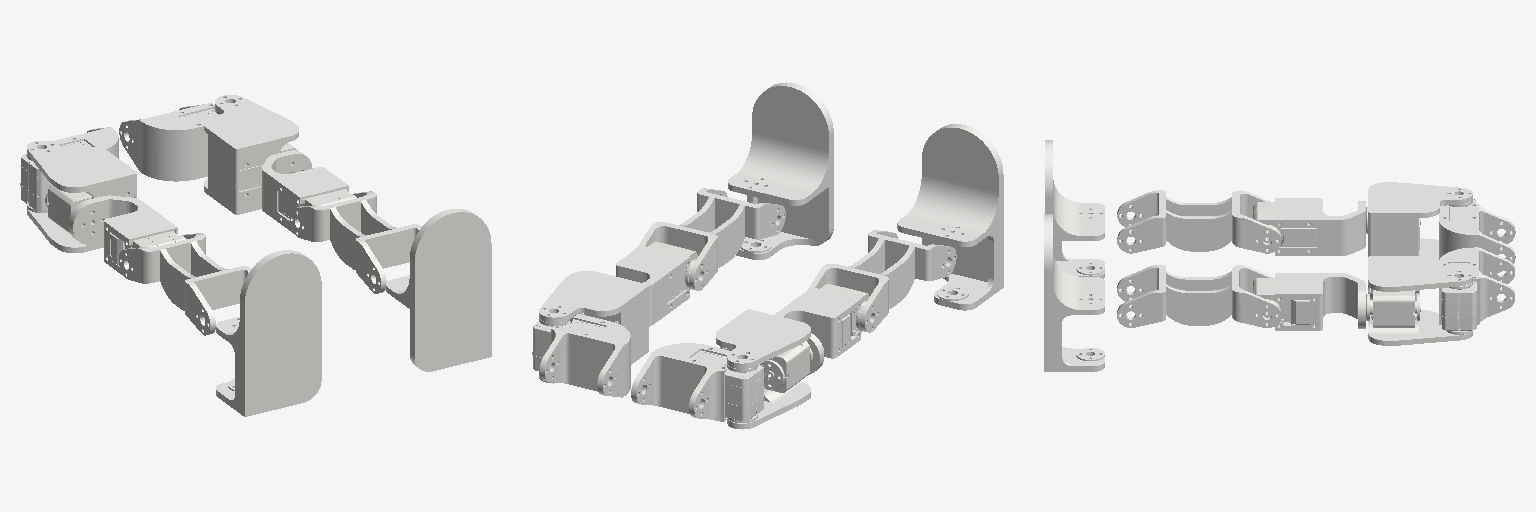
The robot description file, URDF, robot "Robot_v4":
<?xml version="1.0"?>
<robot name="Robot_v4">

  <!-- Materials -->
  <material name="Steel">
    <color rgba="0.965 0.965 0.953 1.0"/>
  </material>

  <link name="base_link">
    <inertial>
      <origin xyz="0.027914 0.011270 0.003243" rpy="0 0 0"/>
      <mass value="1.196448"/>
      <inertia ixx="1.165341e-03" ixy="6.647976e-06" ixz="6.512934e-07"
               iyy="1.459969e-03" iyz="-1.655119e-04" izz="2.416161e-03"/>
    </inertial>
    <visual>
      <origin xyz="0.000000 0.000000 0.000000" rpy="0 0 0"/>
      <geometry>
        <mesh filename="package://K2/meshes/K2/base_link.obj" scale="0.01 0.01 0.01"/>
      </geometry>
      <material name="Steel"/>
    </visual>
    <collision>
      <origin xyz="0.000000 0.000000 0.000000" rpy="0 0 0"/>
      <geometry>
        <mesh filename="package://K2/meshes/K2/base_link_collision.stl" scale="0.01 0.01 0.01"/>
      </geometry>
    </collision>
  </link>

  <link name="Hip_pitch_right">
    <inertial>
      <origin xyz="-0.007803 -0.027041 0.000209" rpy="0 0 0"/>
      <mass value="0.470867"/>
      <inertia ixx="8.699467e-05" ixy="1.605747e-05" ixz="-3.619246e-07"
               iyy="2.084212e-04" iyz="1.372941e-07" izz="2.079075e-04"/>
    </inertial>
    <visual>
      <origin xyz="-0.094850 0.025500 0.000000" rpy="0 0 0"/>
      <geometry>
        <mesh filename="package://K2/meshes/K2/Hip_pitch_right.obj" scale="0.01 0.01 0.01"/>
      </geometry>
      <material name="Steel"/>
    </visual>
    <collision>
      <origin xyz="-0.094850 0.025500 0.000000" rpy="0 0 0"/>
      <geometry>
        <mesh filename="package://K2/meshes/K2/Hip_pitch_right_collision.stl" scale="0.01 0.01 0.01"/>
      </geometry>
    </collision>
  </link>

  <link name="Hip_pitch_left">
    <inertial>
      <origin xyz="-0.007803 -0.027041 -0.000209" rpy="0 0 0"/>
      <mass value="0.470867"/>
      <inertia ixx="8.699472e-05" ixy="1.605754e-05" ixz="3.619554e-07"
               iyy="2.084213e-04" iyz="-1.372745e-07" izz="2.079075e-04"/>
    </inertial>
    <visual>
      <origin xyz="-0.094850 0.025500 -0.000000" rpy="0 0 0"/>
      <geometry>
        <mesh filename="package://K2/meshes/K2/Hip_pitch_left.obj" scale="0.01 0.01 0.01"/>
      </geometry>
      <material name="Steel"/>
    </visual>
    <collision>
      <origin xyz="-0.094850 0.025500 -0.000000" rpy="0 0 0"/>
      <geometry>
        <mesh filename="package://K2/meshes/K2/Hip_pitch_left_collision.stl" scale="0.01 0.01 0.01"/>
      </geometry>
    </collision>
  </link>

  <link name="Hip_roll_right">
    <inertial>
      <origin xyz="0.042246 0.009959 0.018837" rpy="0 0 0"/>
      <mass value="0.567771"/>
      <inertia ixx="2.121572e-04" ixy="-1.173858e-05" ixz="4.173209e-07"
               iyy="2.219568e-04" iyz="1.237041e-07" izz="2.052126e-04"/>
    </inertial>
    <visual>
      <origin xyz="-0.030066 0.021479 0.018738" rpy="0 0 0"/>
      <geometry>
        <mesh filename="package://K2/meshes/K2/Hip_roll_right.obj" scale="0.01 0.01 0.01"/>
      </geometry>
      <material name="Steel"/>
    </visual>
    <collision>
      <origin xyz="-0.030066 0.021479 0.018738" rpy="0 0 0"/>
      <geometry>
        <mesh filename="package://K2/meshes/K2/Hip_roll_right_collision.stl" scale="0.01 0.01 0.01"/>
      </geometry>
    </collision>
  </link>

  <link name="Hip_roll_left">
    <inertial>
      <origin xyz="0.042246 0.009959 -0.018837" rpy="0 0 0"/>
      <mass value="0.567771"/>
      <inertia ixx="2.121571e-04" ixy="-1.173863e-05" ixz="-4.173256e-07"
               iyy="2.219567e-04" iyz="-1.237010e-07" izz="2.052125e-04"/>
    </inertial>
    <visual>
      <origin xyz="-0.030066 0.021479 -0.018738" rpy="0 0 0"/>
      <geometry>
        <mesh filename="package://K2/meshes/K2/Hip_roll_left.obj" scale="0.01 0.01 0.01"/>
      </geometry>
      <material name="Steel"/>
    </visual>
    <collision>
      <origin xyz="-0.030066 0.021479 -0.018738" rpy="0 0 0"/>
      <geometry>
        <mesh filename="package://K2/meshes/K2/Hip_roll_left_collision.stl" scale="0.01 0.01 0.01"/>
      </geometry>
    </collision>
  </link>

  <link name="Hip_yaw_right">
    <inertial>
      <origin xyz="0.010788 -0.045739 0.000504" rpy="0 0 0"/>
      <mass value="0.400297"/>
      <inertia ixx="2.006041e-04" ixy="-1.086878e-06" ixz="1.901888e-08"
               iyy="6.509976e-05" iyz="-2.801418e-08" izz="2.171382e-04"/>
    </inertial>
    <visual>
      <origin xyz="-0.065500 -0.052151 0.000500" rpy="0 0 0"/>
      <geometry>
        <mesh filename="package://K2/meshes/K2/Hip_yaw_right.obj" scale="0.01 0.01 0.01"/>
      </geometry>
      <material name="Steel"/>
    </visual>
    <collision>
      <origin xyz="-0.065500 -0.052151 0.000500" rpy="0 0 0"/>
      <geometry>
        <mesh filename="package://K2/meshes/K2/Hip_yaw_right_collision.stl" scale="0.01 0.01 0.01"/>
      </geometry>
    </collision>
  </link>

  <link name="Hip_yaw_left">
    <inertial>
      <origin xyz="0.010788 -0.045739 -0.000504" rpy="0 0 0"/>
      <mass value="0.400297"/>
      <inertia ixx="2.006040e-04" ixy="-1.086942e-06" ixz="-1.902324e-08"
               iyy="6.509972e-05" iyz="2.801902e-08" izz="2.171381e-04"/>
    </inertial>
    <visual>
      <origin xyz="-0.065500 -0.052151 -0.000500" rpy="0 0 0"/>
      <geometry>
        <mesh filename="package://K2/meshes/K2/Hip_yaw_left.obj" scale="0.01 0.01 0.01"/>
      </geometry>
      <material name="Steel"/>
    </visual>
    <collision>
      <origin xyz="-0.065500 -0.052151 -0.000500" rpy="0 0 0"/>
      <geometry>
        <mesh filename="package://K2/meshes/K2/Hip_yaw_left_collision.stl" scale="0.01 0.01 0.01"/>
      </geometry>
    </collision>
  </link>

  <link name="Knee_right">
    <inertial>
      <origin xyz="0.018769 -0.047347 0.003932" rpy="0 0 0"/>
      <mass value="0.212616"/>
      <inertia ixx="1.833133e-04" ixy="2.915381e-09" ixz="-3.558009e-08"
               iyy="5.993046e-05" iyz="-2.005690e-08" izz="2.219117e-04"/>
    </inertial>
    <visual>
      <origin xyz="-0.057350 0.025500 0.000000" rpy="0 0 0"/>
      <geometry>
        <mesh filename="package://K2/meshes/K2/Knee_right.obj" scale="0.01 0.01 0.01"/>
      </geometry>
      <material name="Steel"/>
    </visual>
    <collision>
      <origin xyz="-0.057350 0.025500 0.000000" rpy="0 0 0"/>
      <geometry>
        <mesh filename="package://K2/meshes/K2/Knee_right_collision.stl" scale="0.01 0.01 0.01"/>
      </geometry>
    </collision>
  </link>

  <link name="Knee_left">
    <inertial>
      <origin xyz="0.018769 -0.047347 -0.003932" rpy="0 0 0"/>
      <mass value="0.212616"/>
      <inertia ixx="1.833133e-04" ixy="2.915381e-09" ixz="3.558009e-08"
               iyy="5.993046e-05" iyz="2.005690e-08" izz="2.219117e-04"/>
    </inertial>
    <visual>
      <origin xyz="-0.057350 0.025500 -0.000000" rpy="0 0 0"/>
      <geometry>
        <mesh filename="package://K2/meshes/K2/Knee_left.obj" scale="0.01 0.01 0.01"/>
      </geometry>
      <material name="Steel"/>
    </visual>
    <collision>
      <origin xyz="-0.057350 0.025500 -0.000000" rpy="0 0 0"/>
      <geometry>
        <mesh filename="package://K2/meshes/K2/Knee_left_collision.stl" scale="0.01 0.01 0.01"/>
      </geometry>
    </collision>
  </link>

  <link name="Ankle_right">
    <inertial>
      <origin xyz="-0.021076 0.015301 -0.014103" rpy="0 0 0"/>
      <mass value="0.650099"/>
      <inertia ixx="2.555188e-04" ixy="2.150457e-06" ixz="-2.455000e-05"
               iyy="2.652529e-04" iyz="1.234744e-05" izz="1.822671e-04"/>
    </inertial>
    <visual>
      <origin xyz="-0.094859 0.025691 -0.000059" rpy="0 0 0"/>
      <geometry>
        <mesh filename="package://K2/meshes/K2/Ankle_right.obj" scale="0.01 0.01 0.01"/>
      </geometry>
      <material name="Steel"/>
    </visual>
    <collision>
      <origin xyz="-0.094859 0.025691 -0.000059" rpy="0 0 0"/>
      <geometry>
        <mesh filename="package://K2/meshes/K2/Ankle_right_collision.stl" scale="0.01 0.01 0.01"/>
      </geometry>
    </collision>
  </link>

  <link name="Ankle_left">
    <inertial>
      <origin xyz="-0.021076 0.015301 0.014103" rpy="0 0 0"/>
      <mass value="0.650100"/>
      <inertia ixx="2.555188e-04" ixy="2.150392e-06" ixz="2.454991e-05"
               iyy="2.652529e-04" iyz="-1.234732e-05" izz="1.822672e-04"/>
    </inertial>
    <visual>
      <origin xyz="-0.094859 0.025691 0.000059" rpy="0 0 0"/>
      <geometry>
        <mesh filename="package://K2/meshes/K2/Ankle_left.obj" scale="0.01 0.01 0.01"/>
      </geometry>
      <material name="Steel"/>
    </visual>
    <collision>
      <origin xyz="-0.094859 0.025691 0.000059" rpy="0 0 0"/>
      <geometry>
        <mesh filename="package://K2/meshes/K2/Ankle_left_collision.stl" scale="0.01 0.01 0.01"/>
      </geometry>
    </collision>
  </link>

  <link name="Feet_right">
    <inertial>
      <origin xyz="-0.007940 -0.023198 0.001344" rpy="0 0 0"/>
      <mass value="0.398908"/>
      <inertia ixx="3.344268e-04" ixy="-6.455827e-06" ixz="2.495868e-05"
               iyy="3.911950e-04" iyz="2.948406e-05" izz="1.392217e-04"/>
    </inertial>
    <visual>
      <origin xyz="-0.085513 0.308434 -0.002458" rpy="0 0 0"/>
      <geometry>
        <mesh filename="package://K2/meshes/K2/Feet_right.obj" scale="0.01 0.01 0.01"/>
      </geometry>
      <material name="Steel"/>
    </visual>
    <collision>
      <origin xyz="-0.085513 0.308434 -0.002458" rpy="0 0 0"/>
      <geometry>
        <mesh filename="package://K2/meshes/K2/Feet_right_collision.stl" scale="0.01 0.01 0.01"/>
      </geometry>
    </collision>
  </link>

  <link name="Feet_left">
    <inertial>
      <origin xyz="-0.007940 -0.023198 -0.001344" rpy="0 0 0"/>
      <mass value="0.398908"/>
      <inertia ixx="3.344268e-04" ixy="-6.455827e-06" ixz="-2.495868e-05"
               iyy="3.911950e-04" iyz="-2.948406e-05" izz="1.392217e-04"/>
    </inertial>
    <visual>
      <origin xyz="-0.085513 0.308434 0.002458" rpy="0 0 0"/>
      <geometry>
        <mesh filename="package://K2/meshes/K2/Feet_left.obj" scale="0.01 0.01 0.01"/>
      </geometry>
      <material name="Steel"/>
    </visual>
    <collision>
      <origin xyz="-0.085513 0.308434 0.002458" rpy="0 0 0"/>
      <geometry>
        <mesh filename="package://K2/meshes/K2/Feet_left_collision.stl" scale="0.01 0.01 0.01"/>
      </geometry>
    </collision>
  </link>

  <joint name="base_link_hip_pitch_right_joint" type="revolute">
    <parent link="base_link"/>
    <child link="Hip_pitch_right"/>
    <origin xyz="0.079600 -0.022600 -0.000000" rpy="-0.000000 -0.000000 0.000000"/>
    <axis xyz="1.000000 -0.000000 0.000000"/>
    <limit lower="-1.047198" upper="1.047198" effort="100.0" velocity="1.00"/>
  </joint>

  <joint name="base_link_hip_pitch_left_joint" type="revolute">
    <parent link="base_link"/>
    <child link="Hip_pitch_left"/>
    <origin xyz="-0.023600 -0.022500 0.000000" rpy="-3.141593 0.000000 -3.141593"/>
    <axis xyz="-1.000000 0.000000 0.000000"/>
    <limit lower="-1.047198" upper="1.047198" effort="100.0" velocity="1.00"/>
  </joint>

  <joint name="hip_pitch_hip_roll_right_joint" type="revolute">
    <parent link="Hip_pitch_right"/>
    <child link="Hip_roll_right"/>
    <origin xyz="0.015944 -0.029434 0.019072" rpy="3.141593 0.000000 -1.570796"/>
    <axis xyz="-0.000000 0.000000 -1.000000"/>
    <limit lower="-0.383972" upper="1.570796" effort="100.0" velocity="1.00"/>
  </joint>

  <joint name="hip_pitch_hip_roll_left_joint" type="revolute">
    <parent link="Hip_pitch_left"/>
    <child link="Hip_roll_left"/>
    <origin xyz="0.015944 -0.029434 -0.019072" rpy="-3.141593 -0.000000 -1.570796"/>
    <axis xyz="0.000000 -0.000000 -1.000000"/>
    <limit lower="-0.383972" upper="1.570796" effort="100.0" velocity="1.00"/>
  </joint>

  <joint name="hip_roll_hip_yaw_right_joint" type="revolute">
    <parent link="Hip_roll_right"/>
    <child link="Hip_yaw_right"/>
    <origin xyz="0.064534 -0.004021 0.018738" rpy="-0.000000 0.000000 1.570796"/>
    <axis xyz="-0.000000 -1.000000 -0.000000"/>
    <limit lower="-1.570796" upper="1.570796" effort="100.0" velocity="1.00"/>
  </joint>

  <joint name="hip_roll_hip_yaw_left_joint" type="revolute">
    <parent link="Hip_roll_left"/>
    <child link="Hip_yaw_left"/>
    <origin xyz="0.064534 -0.004021 -0.018738" rpy="0.000000 -0.000000 1.570796"/>
    <axis xyz="0.000000 1.000000 -0.000000"/>
    <limit lower="-1.570796" upper="1.570796" effort="100.0" velocity="1.00"/>
  </joint>

  <joint name="hip_yaw_knee_right_joint" type="revolute">
    <parent link="Hip_yaw_right"/>
    <child link="Knee_right"/>
    <origin xyz="0.029100 -0.068651 0.000500" rpy="-3.141593 -0.000000 -3.141593"/>
    <axis xyz="-1.000000 -0.000000 -0.000000"/>
    <limit lower="-0.261799" upper="1.919862" effort="100.0" velocity="1.00"/>
  </joint>

  <joint name="hip_yaw_knee_left_joint" type="revolute">
    <parent link="Hip_yaw_left"/>
    <child link="Knee_left"/>
    <origin xyz="0.029100 -0.068651 -0.000500" rpy="3.141593 0.000000 -3.141593"/>
    <axis xyz="1.000000 0.000000 -0.000000"/>
    <limit lower="-1.919862" upper="0.261799" effort="100.0" velocity="1.00"/>
  </joint>

  <joint name="knee_ankle_pitch_right_joint" type="revolute">
    <parent link="Knee_right"/>
    <child link="Ankle_right"/>
    <origin xyz="0.037500 -0.094922 -0.000000" rpy="-1.570796 -0.000000 -0.000000"/>
    <axis xyz="-1.000000 -0.000000 -0.000000"/>
    <limit lower="-0.436332" upper="0.872665" effort="100.0" velocity="1.00"/>
  </joint>

  <joint name="knee_ankle_pitch_left_joint" type="revolute">
    <parent link="Knee_left"/>
    <child link="Ankle_left"/>
    <origin xyz="0.037500 -0.094922 0.000000" rpy="1.570796 0.000000 -0.000000"/>
    <axis xyz="1.000000 0.000000 -0.000000"/>
    <limit lower="-0.436332" upper="0.872665" effort="100.0" velocity="1.00"/>
  </joint>

  <joint name="anke_roll_ankle_pitch_right_joint" type="revolute">
    <parent link="Ankle_right"/>
    <child link="Feet_right"/>
    <origin xyz="-0.009430 -0.002300 -0.028000" rpy="1.570796 0.000000 0.000000"/>
    <axis xyz="-0.000000 0.000000 1.000000"/>
    <limit lower="-0.349066" upper="0.523599" effort="100.0" velocity="1.00"/>
  </joint>

  <joint name="anke_roll_ankle_pitch_left_joint" type="revolute">
    <parent link="Ankle_left"/>
    <child link="Feet_left"/>
    <origin xyz="-0.009430 -0.002300 0.028000" rpy="-1.570796 -0.000000 0.000000"/>
    <axis xyz="0.000000 -0.000000 1.000000"/>
    <limit lower="-0.349066" upper="0.523599" effort="100.0" velocity="1.00"/>
  </joint>

  <!-- ROS 2 control: generated generic system -->
  <ros2_control name="Robot_v4_system" type="system">
    <hardware>
      <plugin>mock_components/GenericSystem</plugin>
      <param name="cmd_topic">sim/Robot_v4_system/cmd</param>
      <param name="state_topic">sim/Robot_v4_system/state</param>
    </hardware>

    <joint name="anke_roll_ankle_pitch_left_joint">
      <command_interface name="position"/>
      <command_interface name="velocity"/>
      <state_interface name="position">
        <param name="initial_value">0.0</param>
      </state_interface>
      <state_interface name="velocity"/>
      <state_interface name="effort"/>
    </joint>
    <joint name="anke_roll_ankle_pitch_right_joint">
      <command_interface name="position"/>
      <command_interface name="velocity"/>
      <state_interface name="position">
        <param name="initial_value">0.0</param>
      </state_interface>
      <state_interface name="velocity"/>
      <state_interface name="effort"/>
    </joint>
    <joint name="base_link_hip_pitch_left_joint">
      <command_interface name="position"/>
      <command_interface name="velocity"/>
      <state_interface name="position">
        <param name="initial_value">0.0</param>
      </state_interface>
      <state_interface name="velocity"/>
      <state_interface name="effort"/>
    </joint>
    <joint name="base_link_hip_pitch_right_joint">
      <command_interface name="position"/>
      <command_interface name="velocity"/>
      <state_interface name="position">
        <param name="initial_value">0.0</param>
      </state_interface>
      <state_interface name="velocity"/>
      <state_interface name="effort"/>
    </joint>
    <joint name="hip_pitch_hip_roll_left_joint">
      <command_interface name="position"/>
      <command_interface name="velocity"/>
      <state_interface name="position">
        <param name="initial_value">0.0</param>
      </state_interface>
      <state_interface name="velocity"/>
      <state_interface name="effort"/>
    </joint>
    <joint name="hip_pitch_hip_roll_right_joint">
      <command_interface name="position"/>
      <command_interface name="velocity"/>
      <state_interface name="position">
        <param name="initial_value">0.0</param>
      </state_interface>
      <state_interface name="velocity"/>
      <state_interface name="effort"/>
    </joint>
    <joint name="hip_roll_hip_yaw_left_joint">
      <command_interface name="position"/>
      <command_interface name="velocity"/>
      <state_interface name="position">
        <param name="initial_value">0.0</param>
      </state_interface>
      <state_interface name="velocity"/>
      <state_interface name="effort"/>
    </joint>
    <joint name="hip_roll_hip_yaw_right_joint">
      <command_interface name="position"/>
      <command_interface name="velocity"/>
      <state_interface name="position">
        <param name="initial_value">0.0</param>
      </state_interface>
      <state_interface name="velocity"/>
      <state_interface name="effort"/>
    </joint>
    <joint name="hip_yaw_knee_left_joint">
      <command_interface name="position"/>
      <command_interface name="velocity"/>
      <state_interface name="position">
        <param name="initial_value">0.0</param>
      </state_interface>
      <state_interface name="velocity"/>
      <state_interface name="effort"/>
    </joint>
    <joint name="hip_yaw_knee_right_joint">
      <command_interface name="position"/>
      <command_interface name="velocity"/>
      <state_interface name="position">
        <param name="initial_value">0.0</param>
      </state_interface>
      <state_interface name="velocity"/>
      <state_interface name="effort"/>
    </joint>
    <joint name="knee_ankle_pitch_left_joint">
      <command_interface name="position"/>
      <command_interface name="velocity"/>
      <state_interface name="position">
        <param name="initial_value">0.0</param>
      </state_interface>
      <state_interface name="velocity"/>
      <state_interface name="effort"/>
    </joint>
    <joint name="knee_ankle_pitch_right_joint">
      <command_interface name="position"/>
      <command_interface name="velocity"/>
      <state_interface name="position">
        <param name="initial_value">0.0</param>
      </state_interface>
      <state_interface name="velocity"/>
      <state_interface name="effort"/>
    </joint>
  </ros2_control>

</robot>

--- What the picture shows (computed from the rendered views, not written in the file) ---
The picture shows the robot from 3 angles, left to right: view 1: azimuth 30°, elevation 25°; view 2: azimuth 150°, elevation 25°; view 3: azimuth 270°, elevation 25°; orthographic projection.
Model Robot_v4 with 13 links and 12 joints (12 revolute), rooted at base_link, posed every joint at zero.
Visible links, largest first — view 1: Feet_left, Feet_right, Hip_roll_right, Knee_left, Knee_right, Hip_roll_left, Hip_pitch_right, Hip_yaw_left, Hip_yaw_right, Hip_pitch_left; view 2: Feet_left, Feet_right, Hip_pitch_left, Hip_roll_left, Hip_pitch_right, Knee_right, Knee_left, Hip_roll_right, Hip_yaw_left, Hip_yaw_right; view 3: Knee_right, Knee_left, Hip_roll_right, Hip_roll_left, Feet_right, Hip_yaw_left, Hip_yaw_right, Hip_pitch_right, Feet_left, Hip_pitch_left.
Link boxes in pixels (x1,y1,x2,y2): Feet_left: [216, 250, 321, 416]; Feet_right: [385, 209, 491, 371]; Hip_roll_right: [204, 95, 298, 214]; Knee_left: [119, 233, 250, 335]; Knee_right: [290, 191, 421, 293]; Hip_roll_left: [27, 141, 136, 252]; Hip_pitch_right: [119, 102, 219, 181]; Hip_yaw_left: [69, 195, 185, 275]; Hip_yaw_right: [262, 150, 356, 233]; Hip_pitch_left: [20, 127, 118, 212]; Feet_left: [897, 124, 1003, 310]; Feet_right: [728, 82, 833, 259]; Hip_pitch_left: [631, 343, 763, 422]; Hip_roll_left: [716, 309, 812, 429]; Hip_pitch_right: [532, 314, 630, 397]; Knee_right: [637, 188, 785, 290]; Knee_left: [808, 230, 956, 332]; Hip_roll_right: [539, 271, 648, 383]; Hip_yaw_left: [775, 284, 869, 374]; Hip_yaw_right: [616, 241, 697, 326]; Knee_right: [1117, 265, 1280, 327]; Knee_left: [1117, 190, 1280, 253]; Hip_roll_right: [1366, 256, 1472, 345]; Hip_roll_left: [1366, 182, 1472, 259]; Feet_right: [1044, 214, 1104, 371]; Hip_yaw_left: [1253, 198, 1365, 255]; Hip_yaw_right: [1253, 273, 1365, 330]; Hip_pitch_right: [1439, 247, 1514, 334]; Feet_left: [1045, 140, 1104, 278]; Hip_pitch_left: [1439, 199, 1515, 272].
Bounding box of the posed robot: 0.177 × 0.3272 × 0.1051 m (x, y, z).
10 mesh visuals loaded from 13 distinct referenced files (10 OBJ); not drawn: 3 (reference not matched to a file when rendering).
